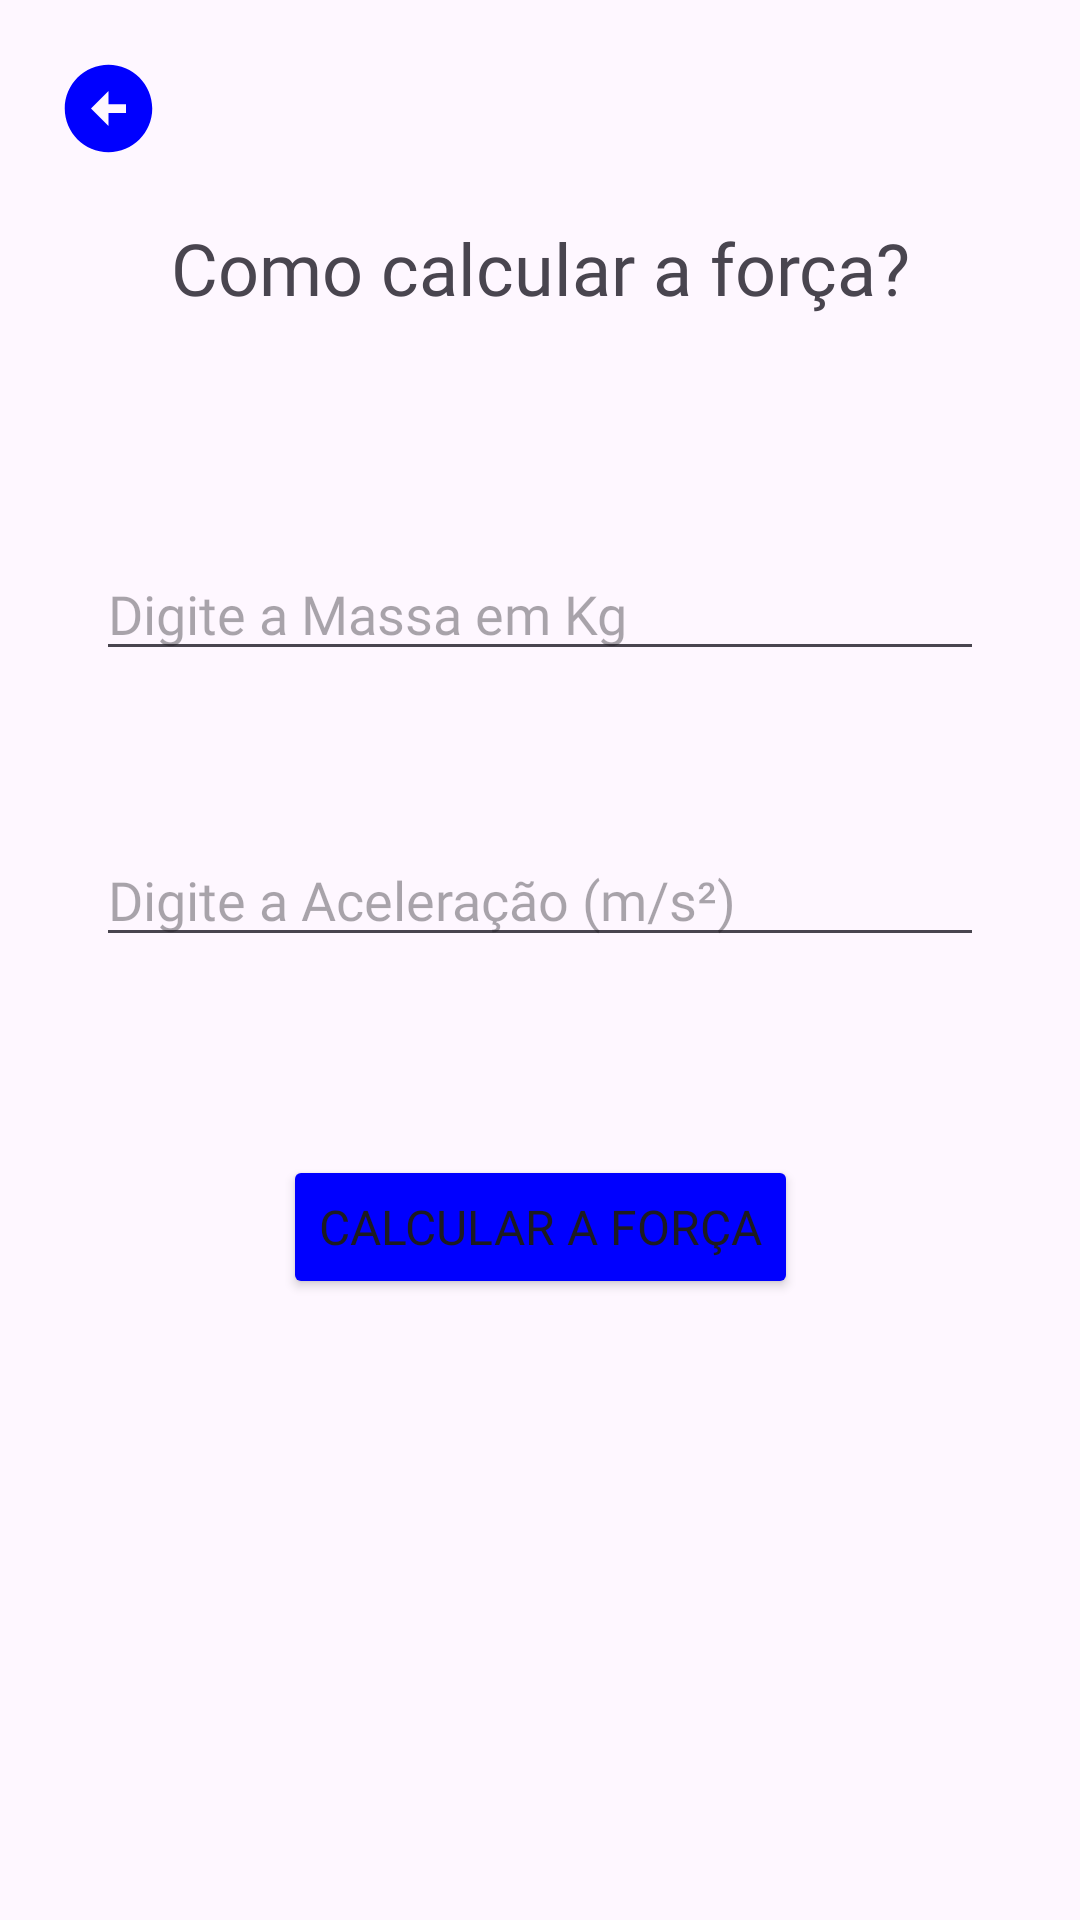

Where icons sit on this 1080w x 1920h app screen, as (x1, y1, x2, y2):
Voltar: (64, 64, 153, 153)
